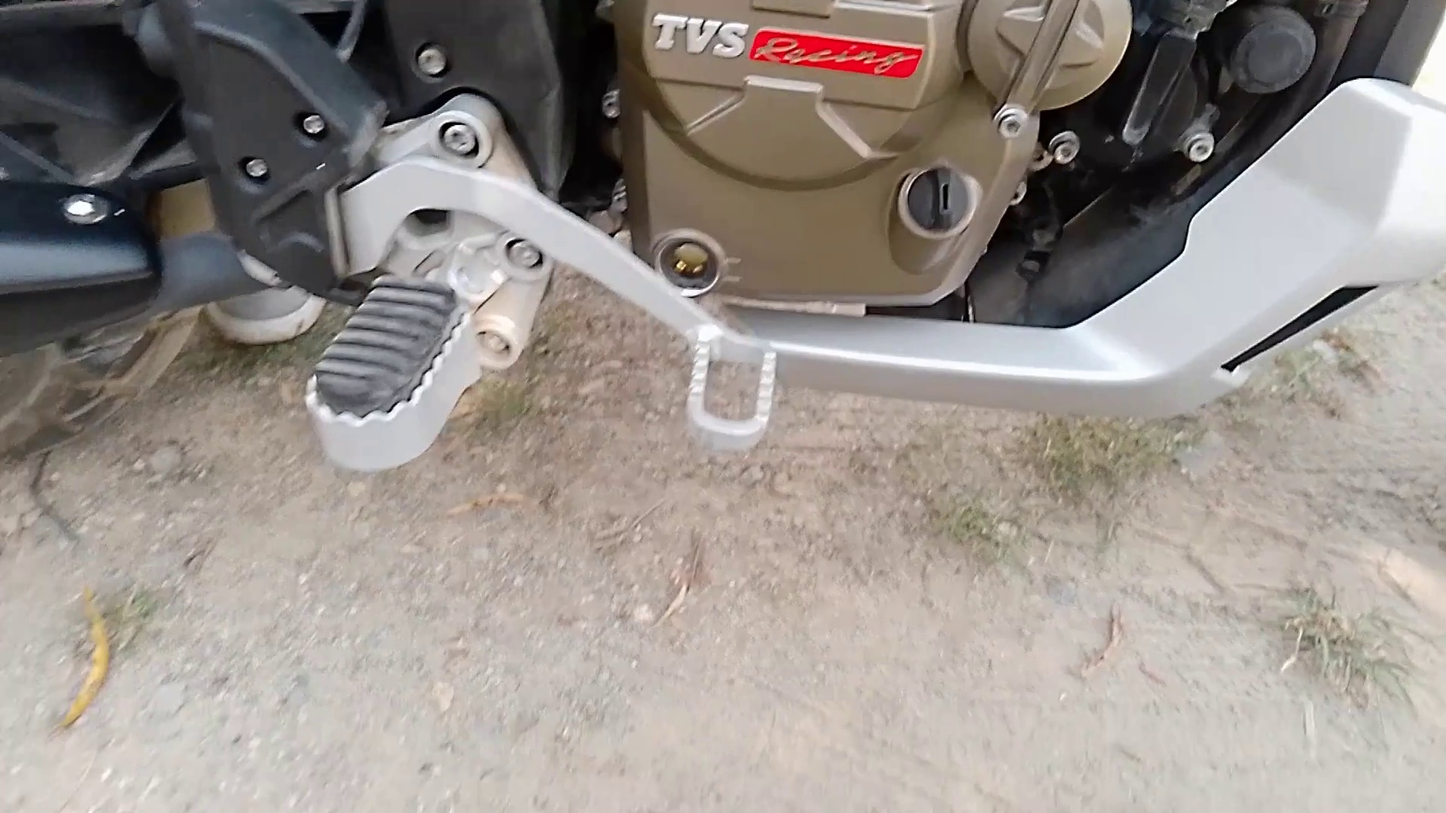bike-engine: (614, 0, 1136, 303)
bike-engine-level: (653, 218, 723, 294)
bike-oil-cap: (891, 157, 975, 241)
